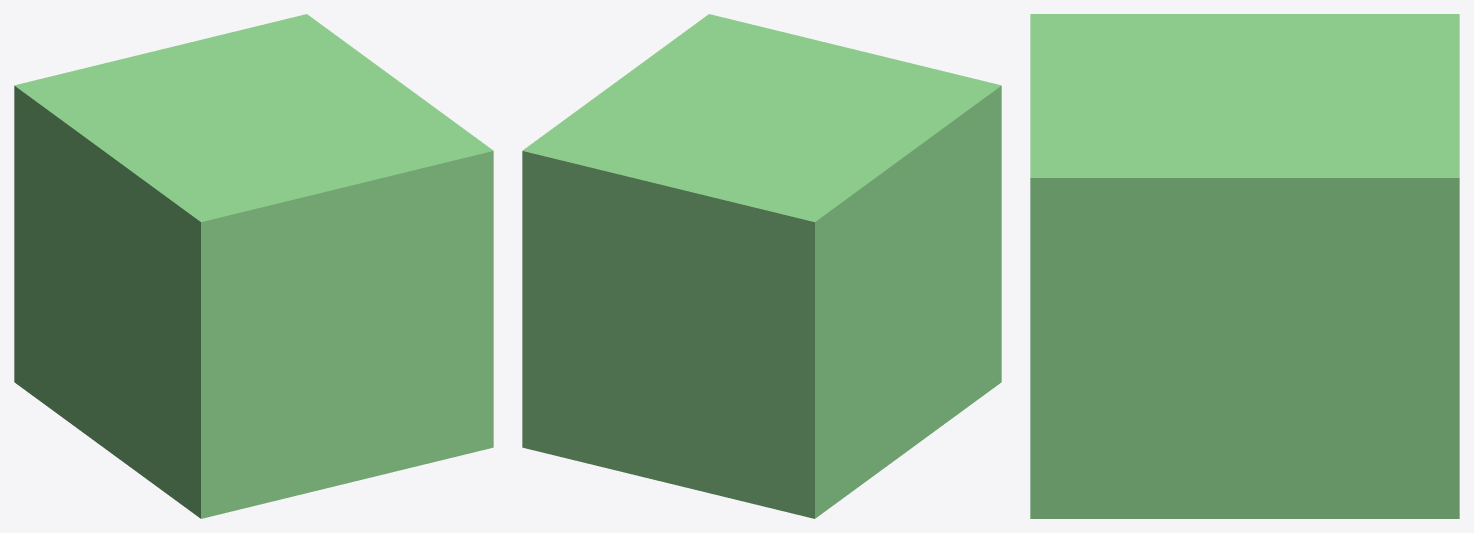
File: bananatree_mature.DAE
3 views of the same model, side by side, from view 1: azimuth 30°, elevation 25°; view 2: azimuth 150°, elevation 25°; view 3: azimuth 270°, elevation 25° (orthographic). The views are drawn at different scales.
Visible parts, largest first — view 1: bounds; view 2: bounds; view 3: bounds.
Part boxes in pixels (box(x1,y1,x2,y2)): bounds: box(14, 14, 493, 518); bounds: box(522, 14, 1001, 518); bounds: box(1030, 14, 1459, 518).
Bounding box in the file's own units: 5.76 × 6.37 × 5.58.
